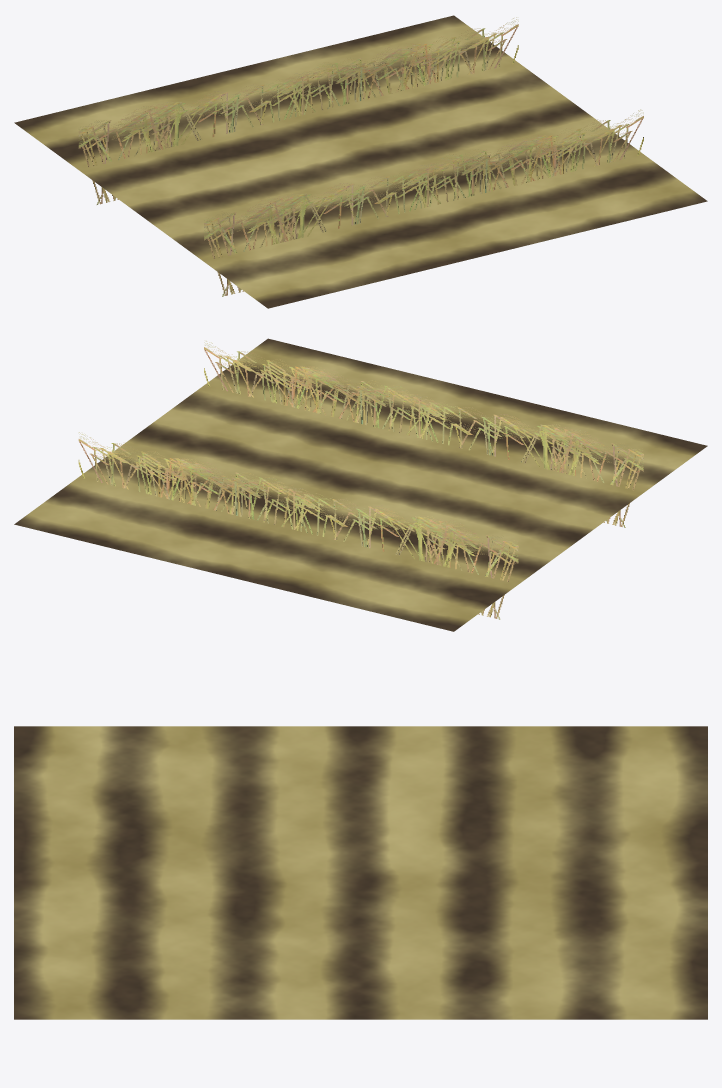
File: Crop_Barley_1_LOD2.gltf
3 renders of one model, top to bottom at view 1: azimuth 30°, elevation 25°; view 2: azimuth 150°, elevation 25°; view 3: azimuth 270°, elevation 25°, orthographic. The views are drawn at different scales.
Visible parts, largest first — view 1: Crop_Barley_1_LOD2; view 2: Crop_Barley_1_LOD2; view 3: Crop_Barley_1_LOD2.
Boxes of the visible parts, <box> form: Crop_Barley_1_LOD2: <box>14,15,707,308</box>; Crop_Barley_1_LOD2: <box>14,338,707,631</box>; Crop_Barley_1_LOD2: <box>14,726,707,1019</box>.
Bounding box in the file's own units: 4 × 0.7647 × 4.
2 materials, 2 textured.
